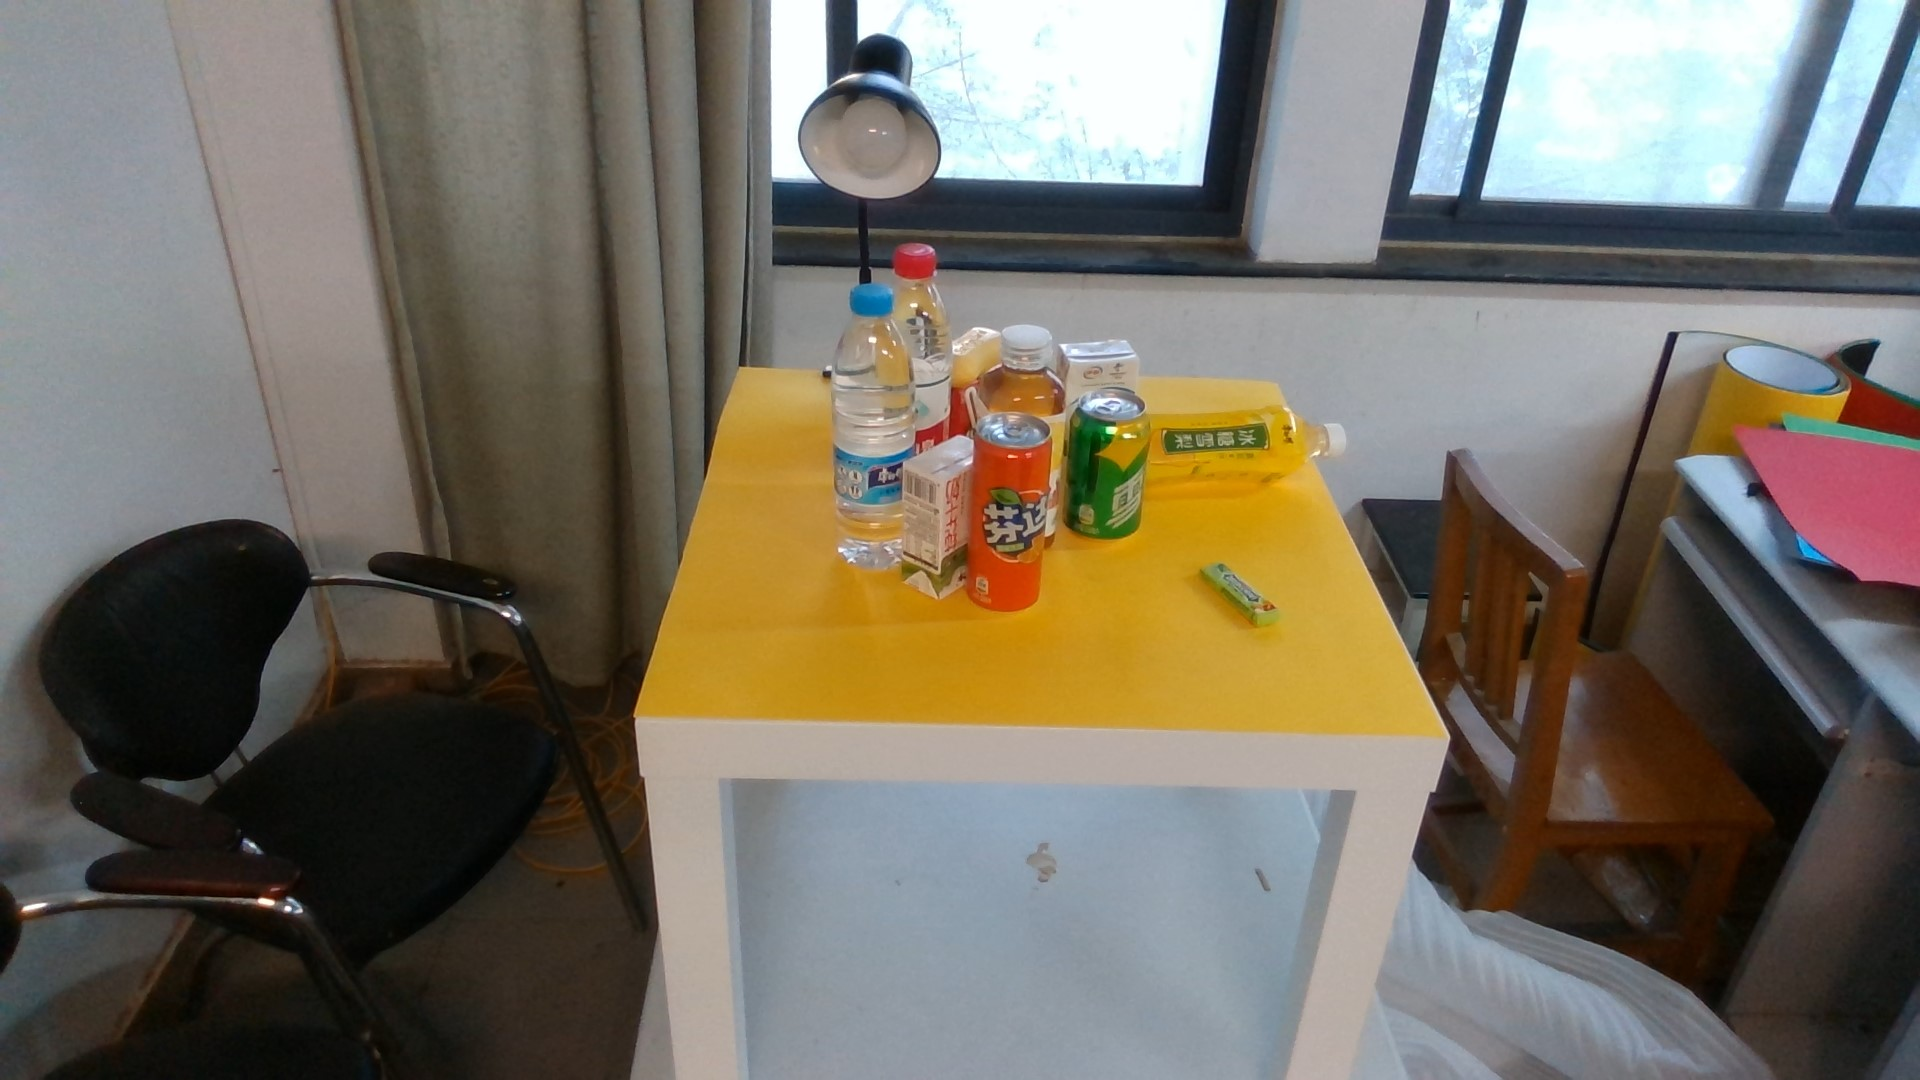BB002: (1201, 562, 1276, 628)
BB003: (953, 327, 997, 385)
BB009: (905, 442, 969, 595)
BB012: (978, 324, 1058, 414), (952, 388, 972, 427)
BB013: (1058, 335, 1139, 388)
ZC001: (1063, 392, 1150, 539)
ZC003: (973, 414, 1048, 612)
ZC011: (1150, 406, 1344, 483)
ZC014: (916, 243, 953, 444)
ZC019: (829, 281, 897, 574)
